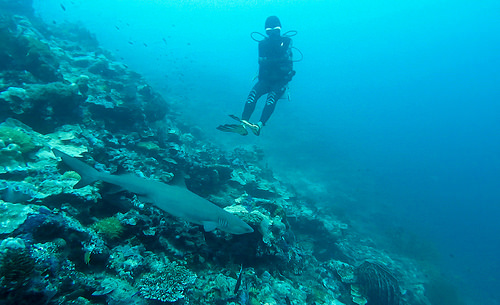shark: (37, 123, 267, 250)
